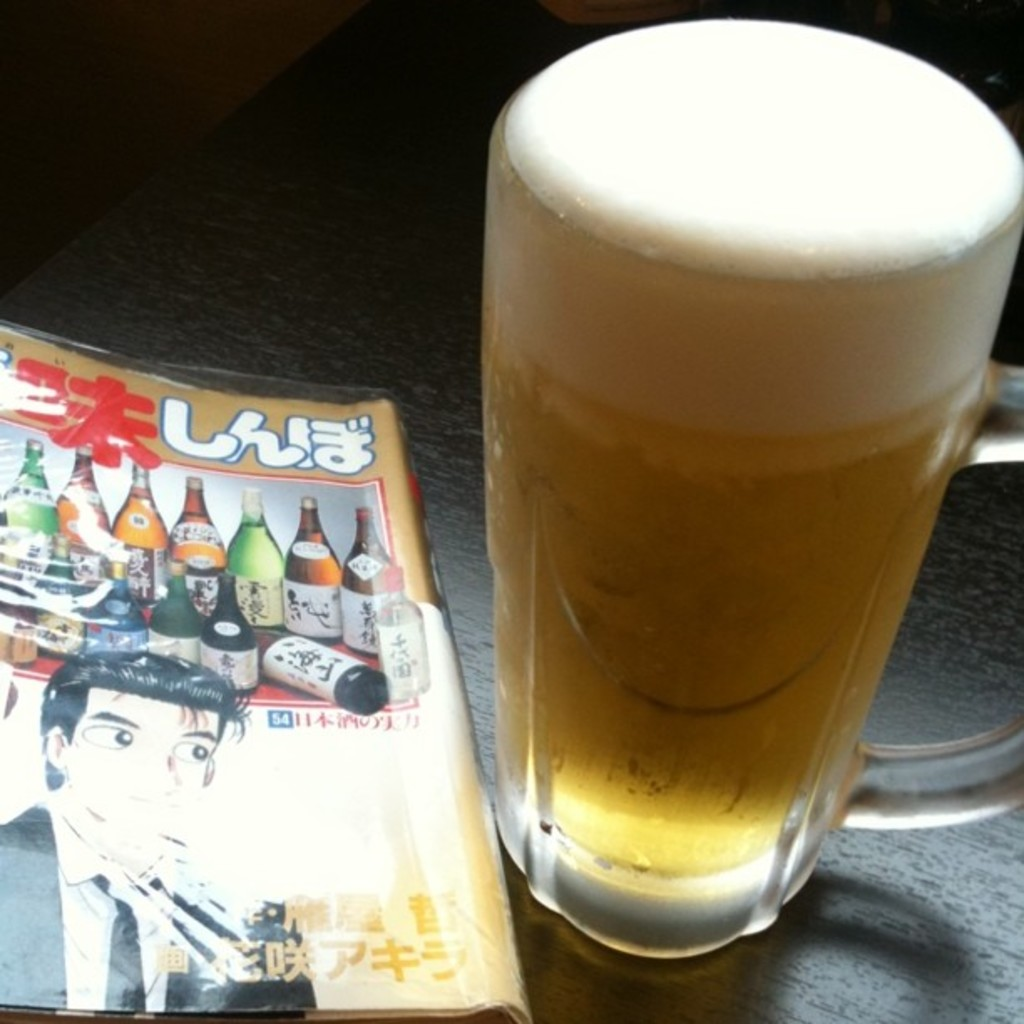Beer: (488, 6, 1022, 881)
